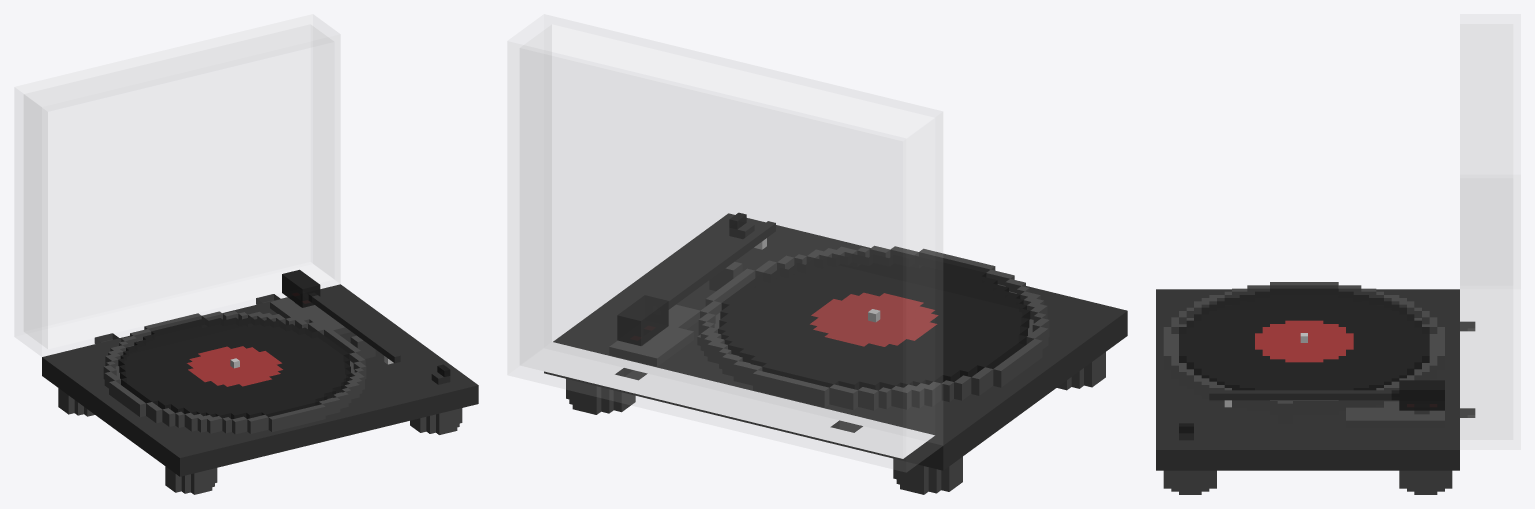
The model's file is turntable.glb.
The picture shows the model from 3 angles, left to right: view 1: azimuth 30°, elevation 25°; view 2: azimuth 150°, elevation 25°; view 3: azimuth 270°, elevation 25°; orthographic projection. The views are drawn at different scales.
Bounding box in the file's own units: 50 × 47 × 48.
1 material, 1 textured.
